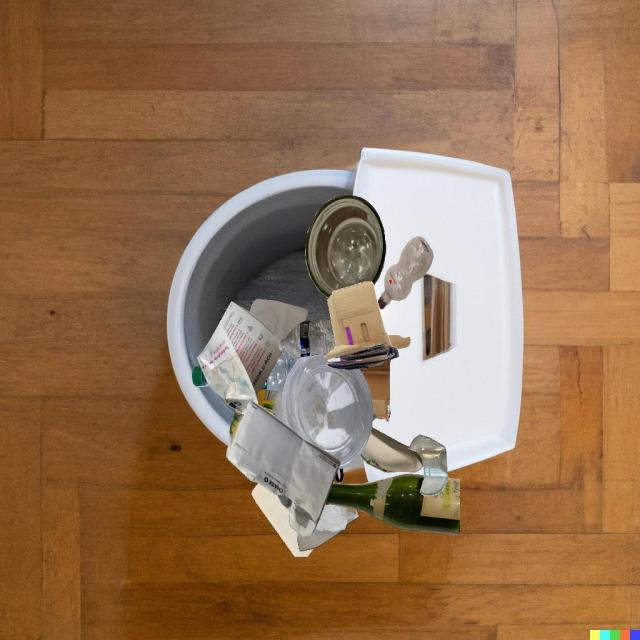cardboard: (324, 281, 399, 370), (359, 360, 390, 422), (226, 409, 244, 457), (257, 389, 279, 415), (372, 409, 377, 421)
glass: (305, 194, 386, 298), (325, 474, 460, 535), (409, 434, 448, 496), (272, 405, 274, 415)
paper: (228, 401, 341, 538), (197, 301, 282, 415), (252, 483, 314, 557), (360, 427, 423, 473), (298, 504, 359, 551)
plastic: (282, 354, 373, 469), (378, 236, 434, 309), (250, 299, 308, 340), (279, 319, 336, 360), (261, 352, 298, 391), (274, 389, 285, 424), (192, 365, 208, 387), (335, 468, 344, 482)
